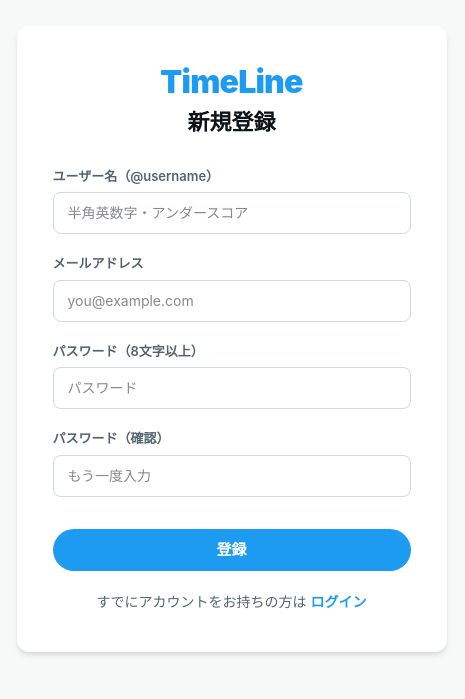
RegisterPage › パスワードが一致しないときエラーが表示される
This screenshot has width=465, height=699.
Type "alice" into the field labelled "ユーザー名（@username）" at (232, 213), box top-left (52, 192), bottom-right (410, 234)
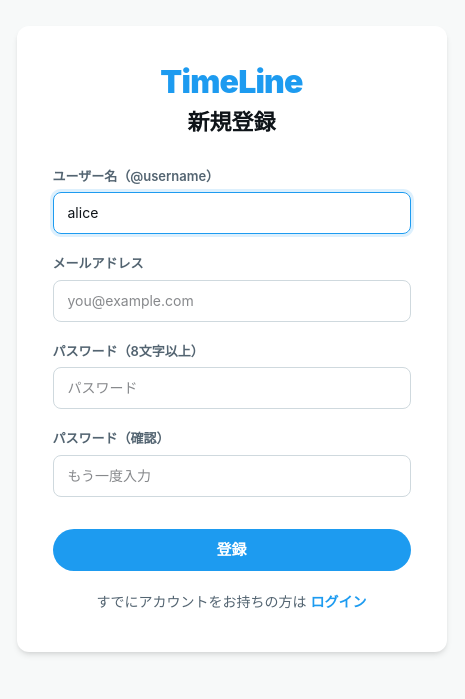
Type "alice@example.com" into the field labelled "メールアドレス" at (232, 301), box top-left (52, 280), bottom-right (410, 322)
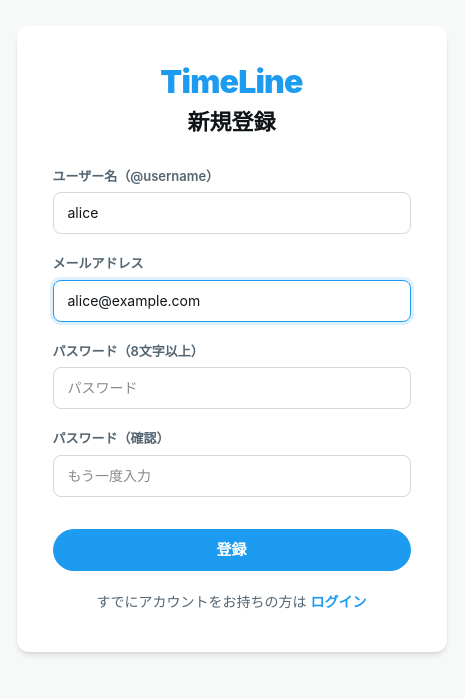
Type "password123" into the password field labelled "パスワード（8文字以上）" at (232, 388), box top-left (52, 367), bottom-right (410, 409)
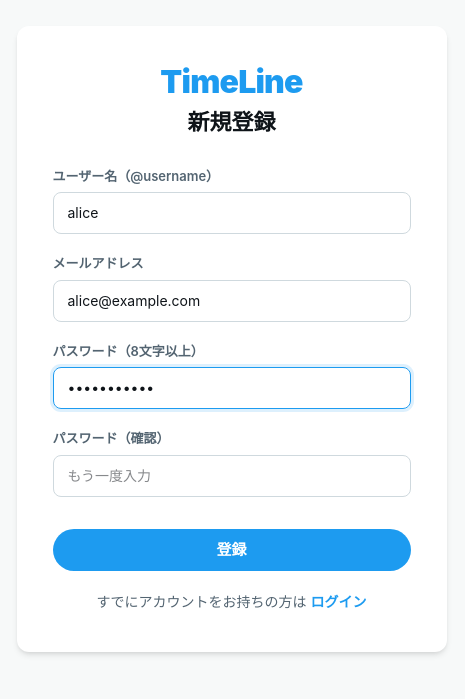
Type "different1" into the password field labelled "パスワード（確認）" at (232, 476), box top-left (52, 455), bottom-right (410, 497)
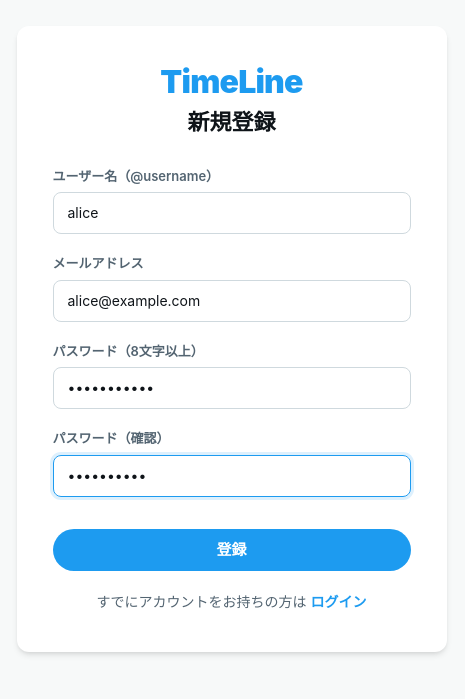
Click the button "登録" at (232, 550), box top-left (52, 529), bottom-right (410, 571)
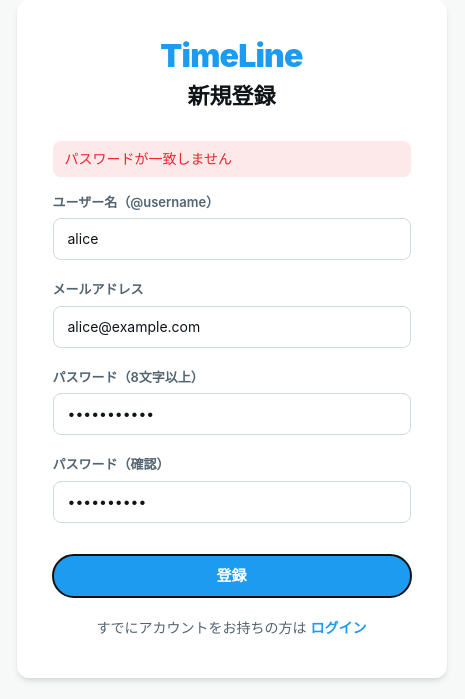
Now the text "パスワードが一致しません" is shown, box top-left (52, 141), bottom-right (410, 177)
